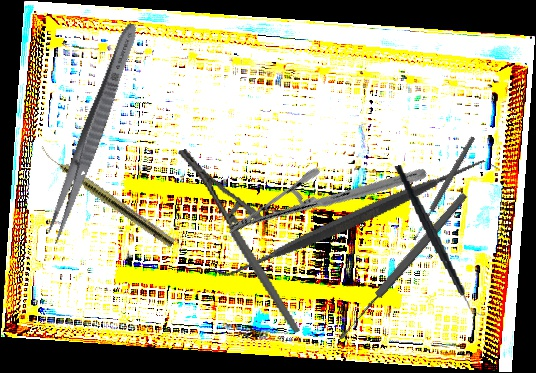Chopper: (393, 157, 487, 325)
Dressing Forceps: (41, 20, 144, 247)
Handpiece: (36, 144, 177, 249)
Needle Holder: (225, 99, 429, 303), (176, 133, 301, 349)
Spatula Surgical: (209, 73, 499, 364)
Surgical Spoon: (335, 190, 470, 343), (410, 135, 477, 242)
